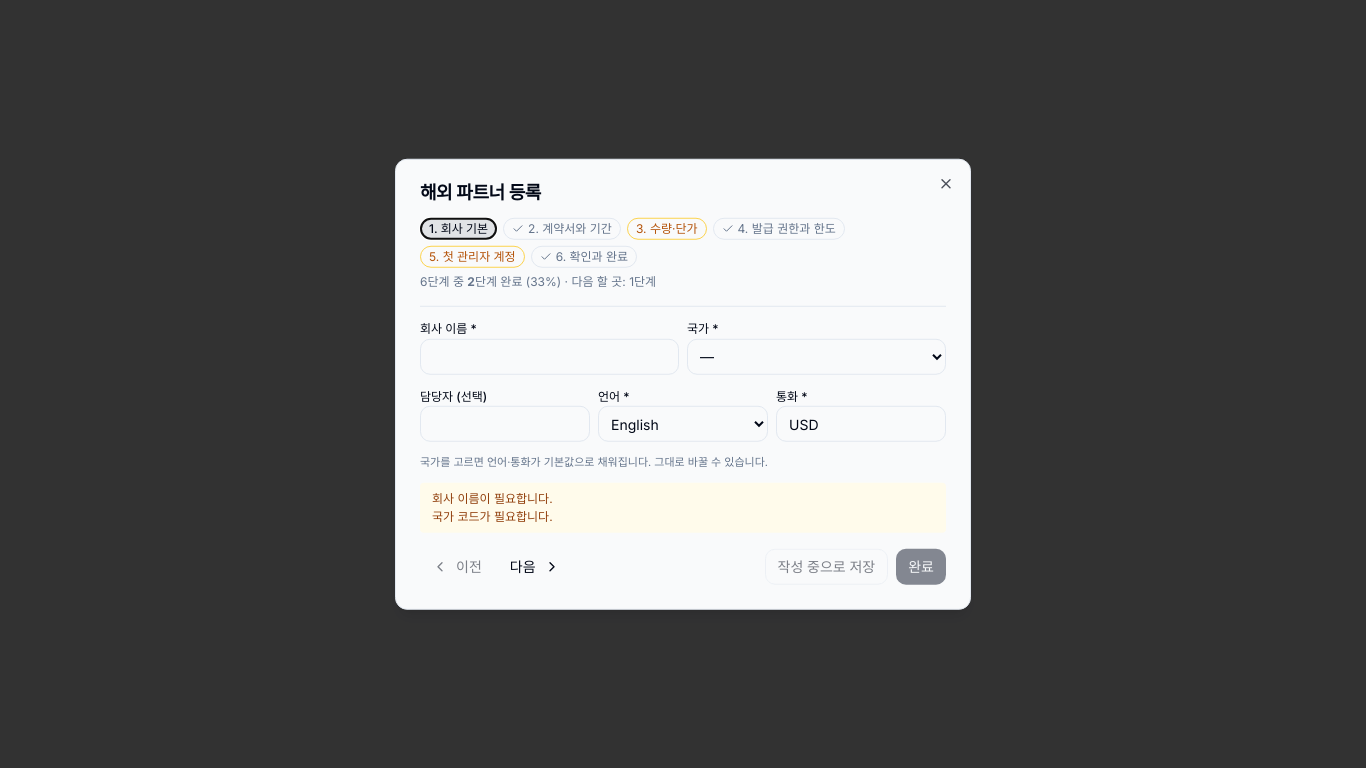
Test: 마법사 화면 › 4단계에 **작성 중에는 권한이 안 켜진다**고 적혀 있다
Click the button "4. 발급 권한과 한도" at (779, 229), box [712,218,845,240]
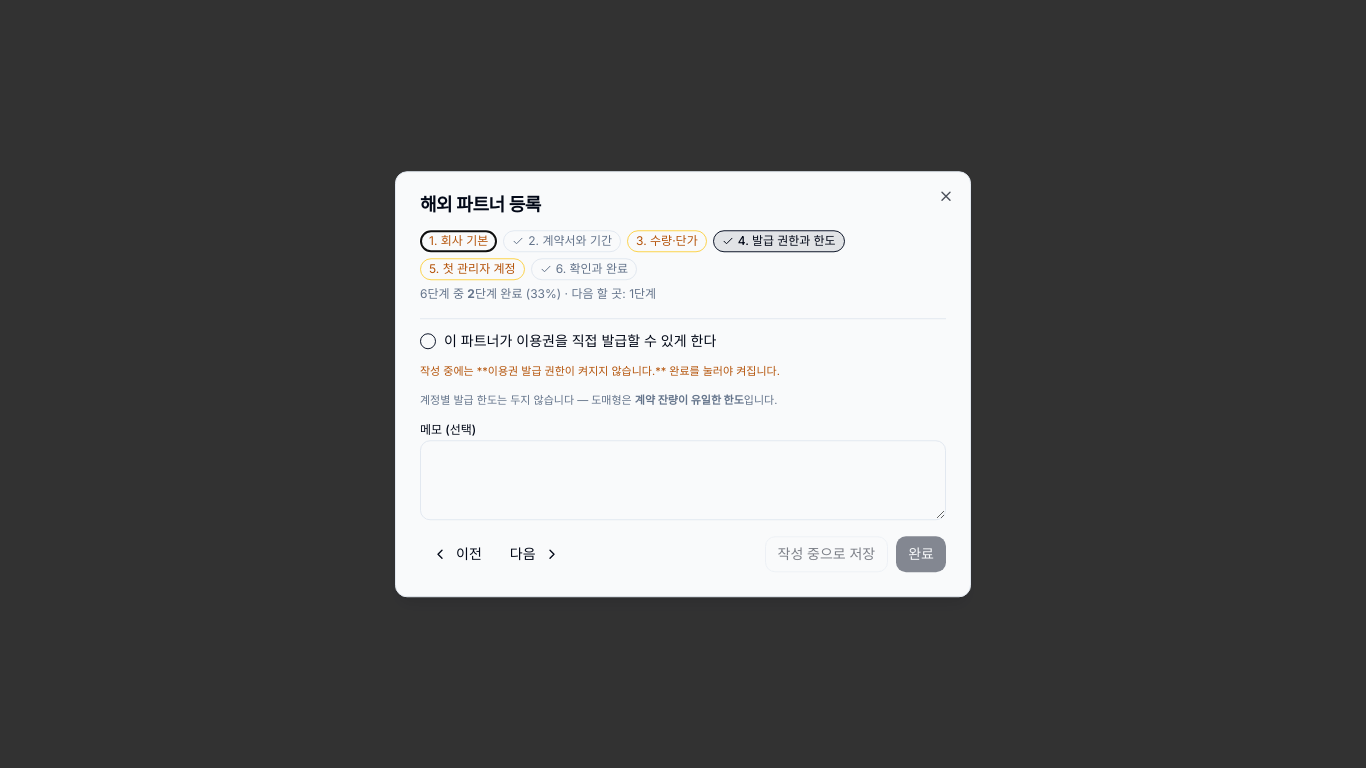
Expected: the text "작성 중에는 **이용권 발급 권한이 켜지지 않습니다.** 완료를 눌러야 켜집니다." is shown, [420,364,780,378]
